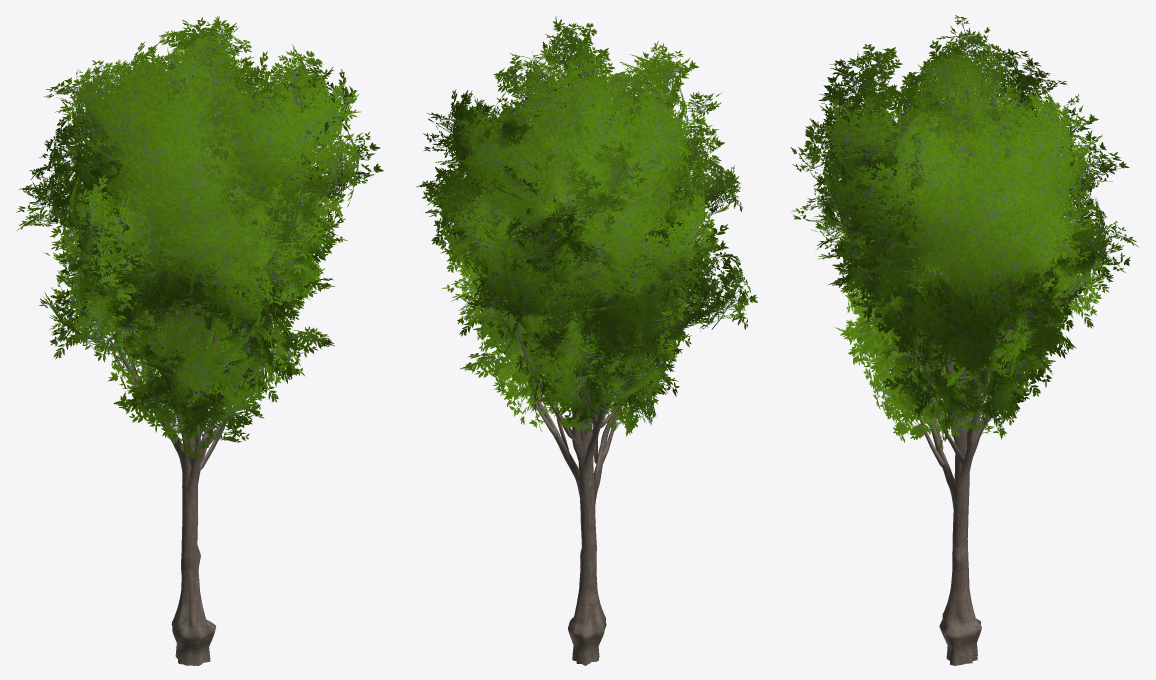
3 renders of one model, left to right at view 1: azimuth 30°, elevation 25°; view 2: azimuth 150°, elevation 25°; view 3: azimuth 270°, elevation 25°, orthographic. The views are drawn at different scales.
Parts seen in each view (by area): view 1: SM_Ash_Tree_02_LOD0; view 2: SM_Ash_Tree_02_LOD0; view 3: SM_Ash_Tree_02_LOD0.
Part boxes in pixels (x1=…): SM_Ash_Tree_02_LOD0: x1=16, y1=16, x2=383, y2=665; SM_Ash_Tree_02_LOD0: x1=416, y1=16, x2=757, y2=665; SM_Ash_Tree_02_LOD0: x1=790, y1=15, x2=1138, y2=665.
Bounding box in the file's own units: 9.24 × 17.3 × 9.14.
2 materials, 2 textured.
